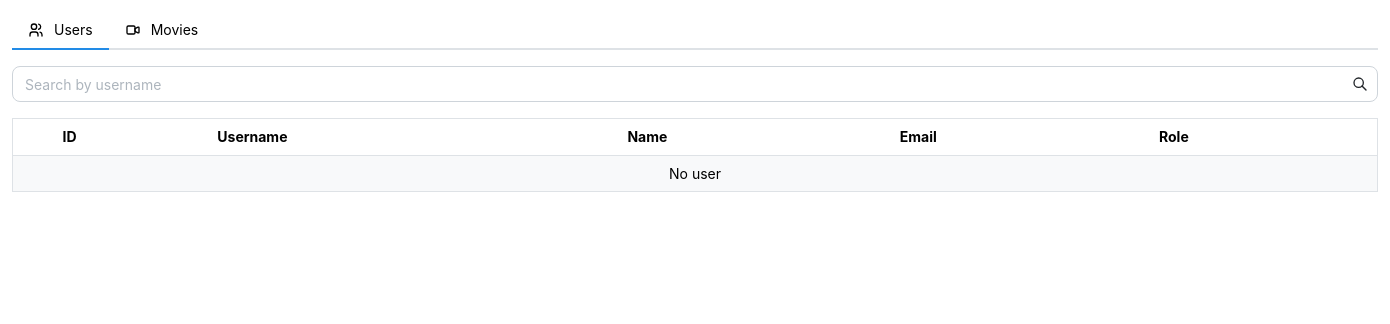
Test: AdminTab › shows movie rows in the Movies panel when movies are provided
Click the tab "Movies" at (161, 31), box top-left (109, 12), bottom-right (214, 50)
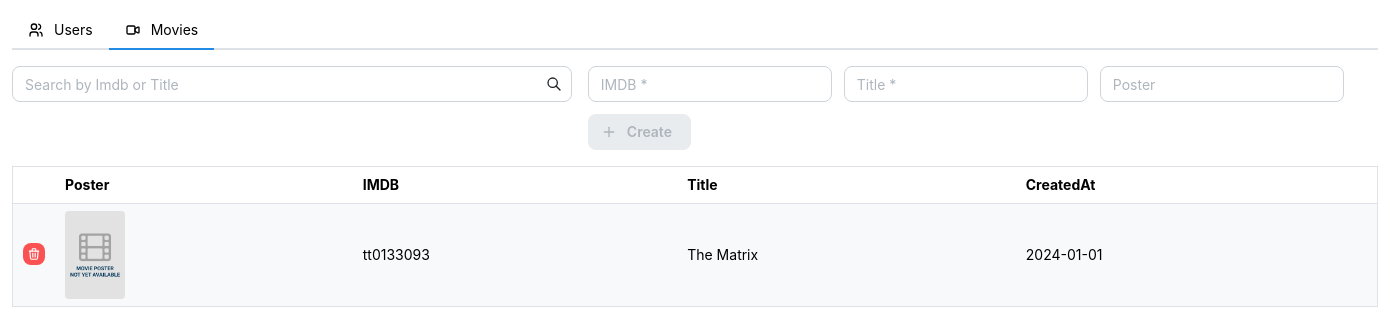
Expected: the text "The Matrix" is shown, top-left (677, 203), bottom-right (1016, 306)
